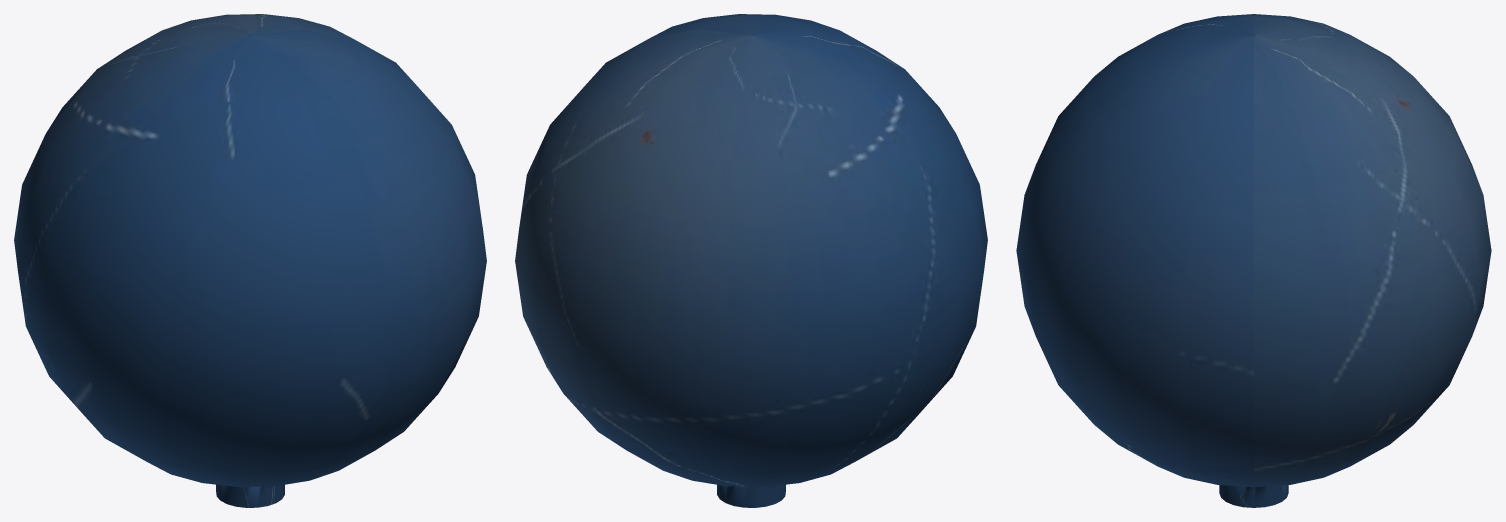
Rendered from marker.glb.
The picture shows the model from 3 angles, left to right: view 1: azimuth 30°, elevation 25°; view 2: azimuth 150°, elevation 25°; view 3: azimuth 270°, elevation 25°; orthographic projection.
Visible parts, largest first — view 1: X_marker; view 2: X_marker; view 3: X_marker.
Part boxes in pixels (<box>): X_marker: <box>14,14,486,507</box>; X_marker: <box>515,14,987,507</box>; X_marker: <box>1016,14,1491,507</box>.
Size of the model in its own units: 0.11 by 0.117 by 0.11.
Materials: 1 (1 with a texture image).
